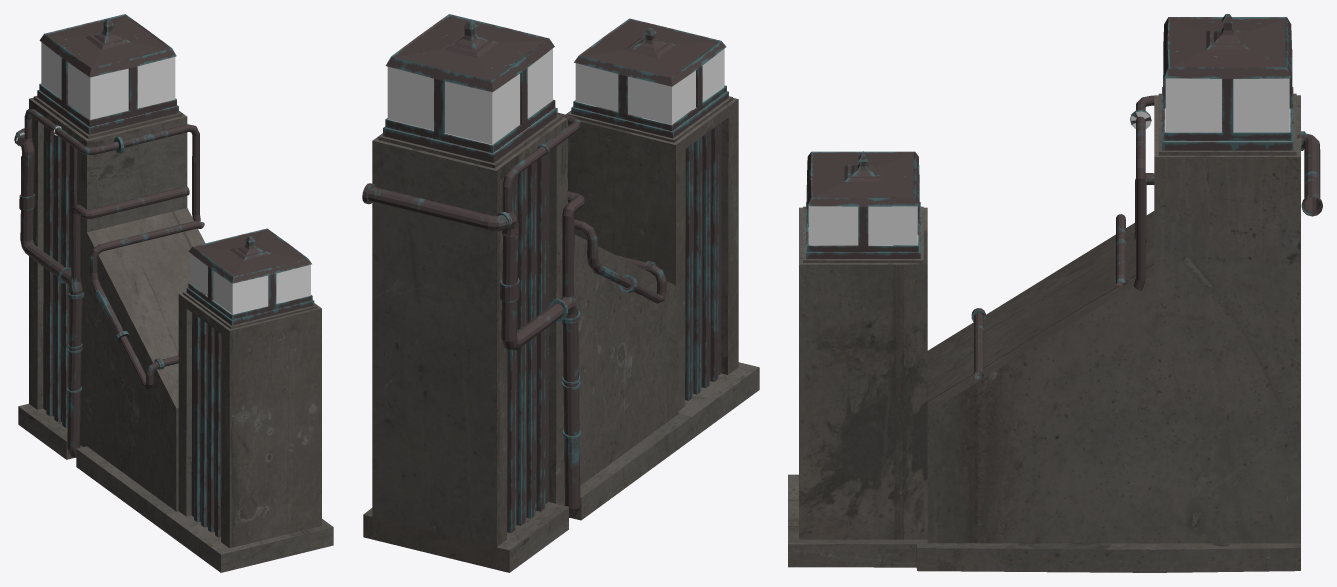
File: MuroPrincipalDireita.fbx
The picture shows the model from 3 angles, left to right: view 1: azimuth 30°, elevation 25°; view 2: azimuth 150°, elevation 25°; view 3: azimuth 270°, elevation 25°; orthographic projection. The views are drawn at different scales.
Visible parts, largest first — view 1: Cube.005; view 2: Cube.005; view 3: Cube.005.
Part boxes in pixels (x1=…): Cube.005: x1=14, y1=14, x2=333, y2=572; Cube.005: x1=362, y1=14, x2=759, y2=572; Cube.005: x1=788, y1=14, x2=1322, y2=572.
Size of the model in its own units: 553 by 1734 by 1615.
Materials: 2 (1 with a texture image).
